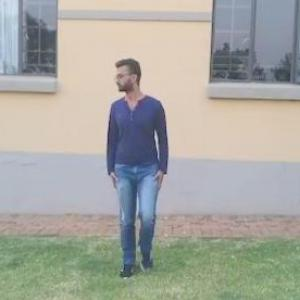follow: (98, 47, 174, 286)
